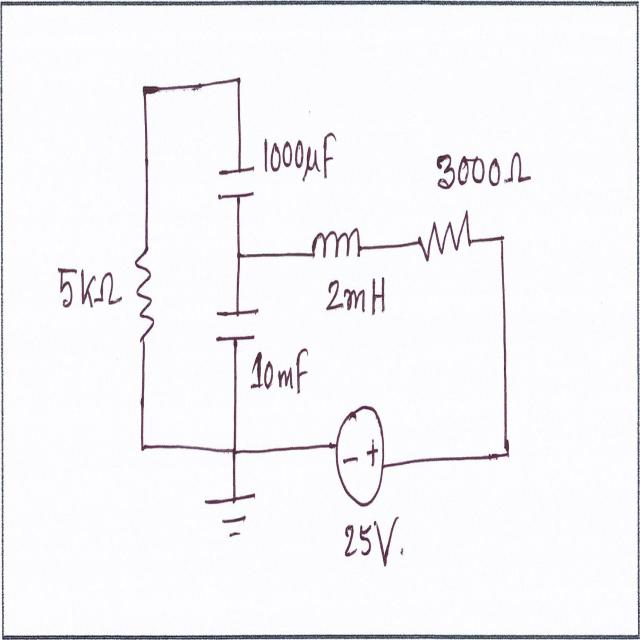capacitor: (212, 301, 260, 346), (213, 164, 260, 208)
ground: (203, 483, 269, 549)
inductor: (307, 217, 366, 274)
resistor: (414, 205, 476, 274), (132, 241, 155, 352)
voltage_source: (333, 401, 385, 512)
